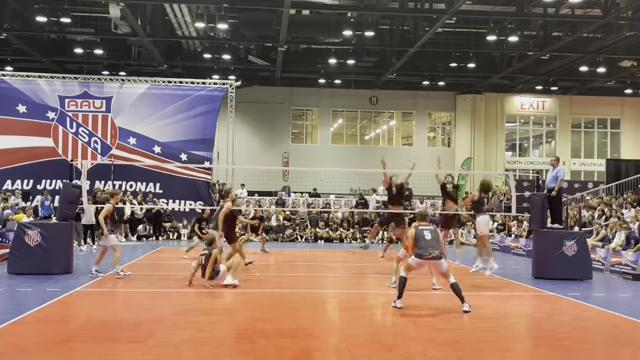attacco: (455, 175, 506, 275)
muro: (374, 154, 418, 262), (431, 151, 465, 266)
